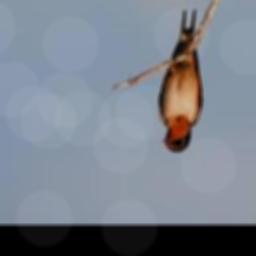Swallow: (160, 11, 202, 153)
